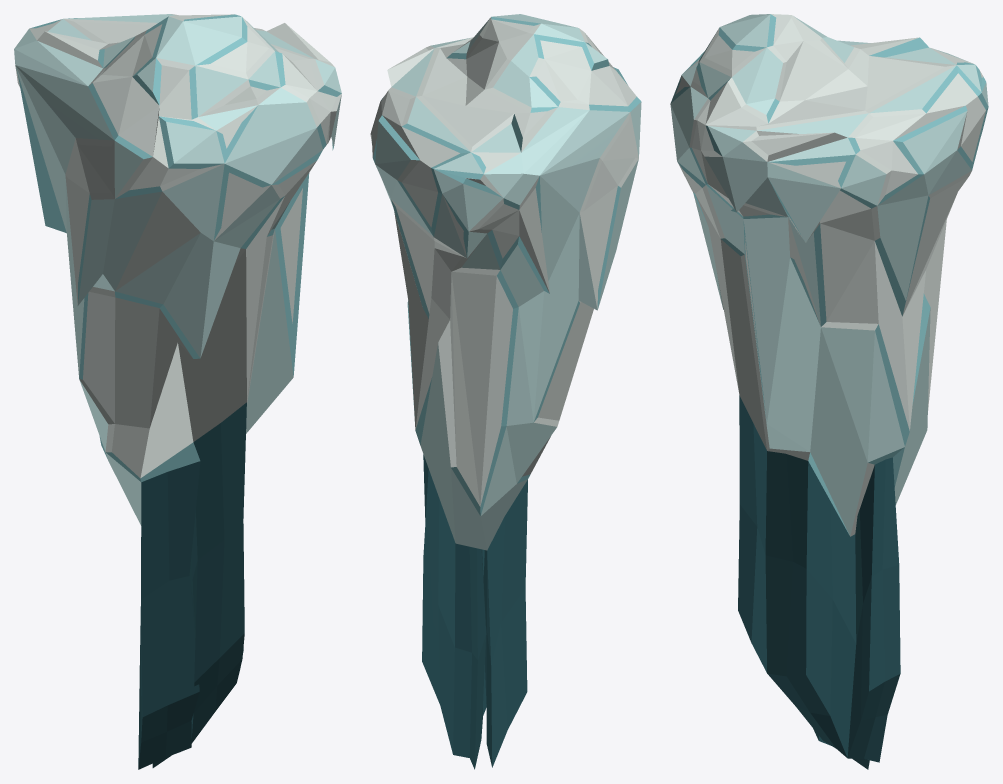
The model's file is PIESA2.fbx.
3 renders of one model, left to right at view 1: azimuth 30°, elevation 25°; view 2: azimuth 150°, elevation 25°; view 3: azimuth 270°, elevation 25°, orthographic. The views are drawn at different scales.
Parts seen in each view (by area): view 1: IslaFlotanteHielo03; view 2: IslaFlotanteHielo03; view 3: IslaFlotanteHielo03.
Boxes of the visible parts, x1,y1,x2,y2 form: IslaFlotanteHielo03: (14, 14, 341, 769); IslaFlotanteHielo03: (370, 14, 641, 769); IslaFlotanteHielo03: (670, 14, 988, 769).
Size of the model in its own units: 422 by 1345 by 520.
